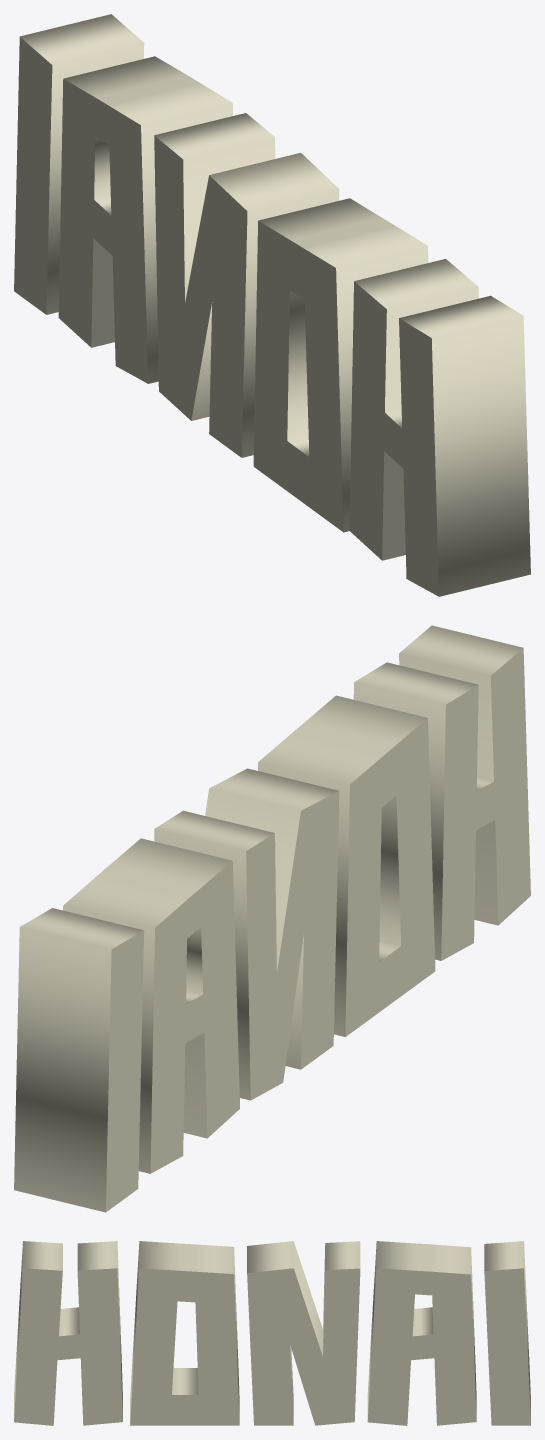
The model's file is T_HONAI.fbx.
3 renders of one model, top to bottom at view 1: azimuth 30°, elevation 25°; view 2: azimuth 150°, elevation 25°; view 3: azimuth 270°, elevation 25°, orthographic. The views are drawn at different scales.
Visible parts, largest first — view 1: T-Honai; view 2: T-Honai; view 3: T-Honai.
Part boxes in pixels (x1,y1,x2,y2): T-Honai: (14, 14, 530, 596); T-Honai: (14, 625, 530, 1212); T-Honai: (14, 1241, 530, 1425).
Bounding box in the file's own units: 23.87 × 64.4 × 191.
